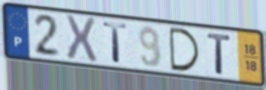2: (33, 13, 62, 58)
9: (138, 24, 163, 69)
D: (167, 25, 202, 73)
T: (205, 31, 233, 76), (102, 21, 130, 65)
X: (63, 13, 99, 64)
